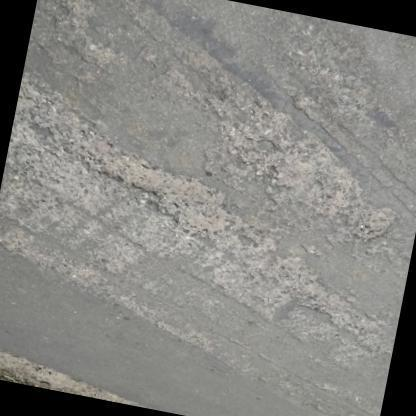pothole: (27, 94, 230, 236), (220, 102, 404, 249)
